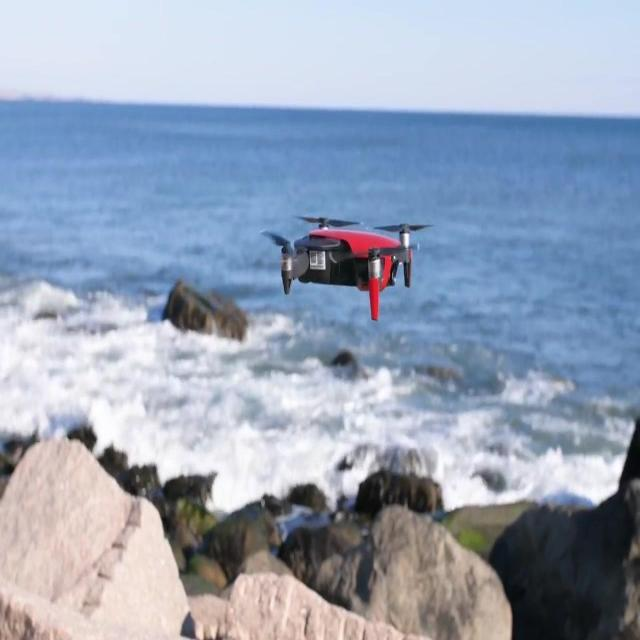drone: (262, 214, 429, 323)
